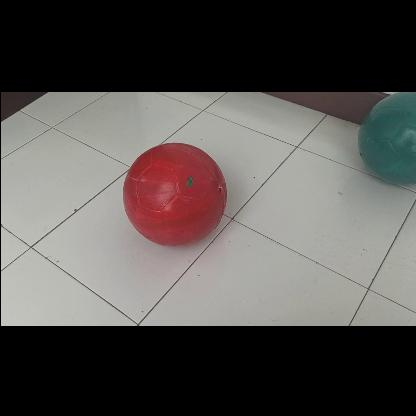red_ball: (121, 140, 225, 244)
